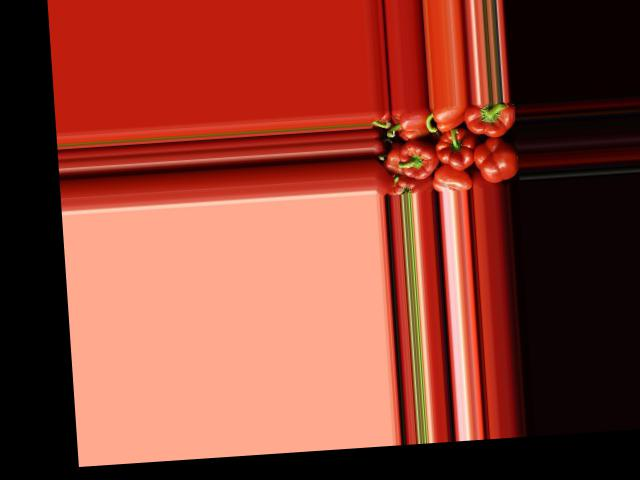bell_pepper: (432, 166, 474, 191)
